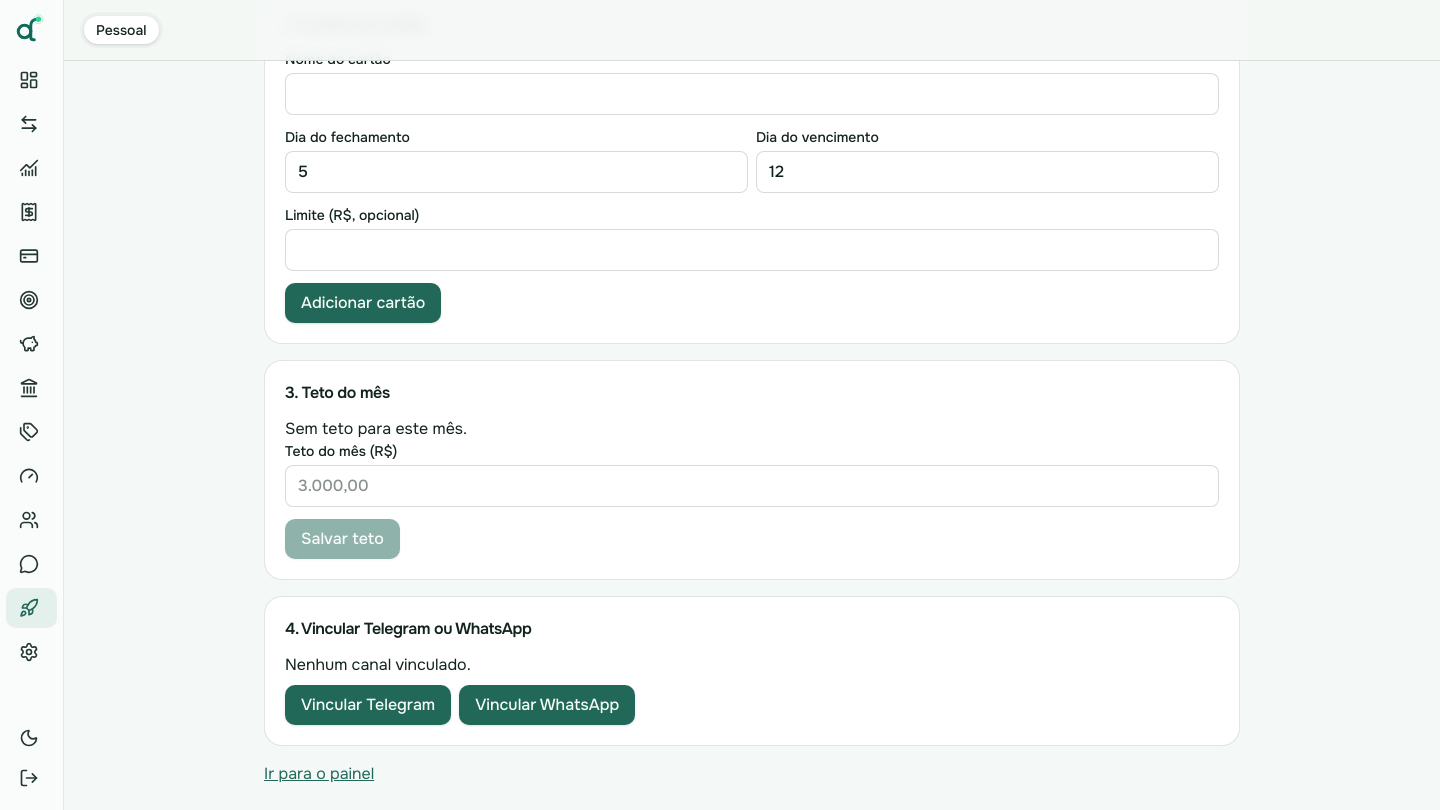
onboarding mostra código e link t.me
(page scrolled)
Click the button "Vincular Telegram" at x=368, y=705, box [285,685,451,725]
(page scrolled)
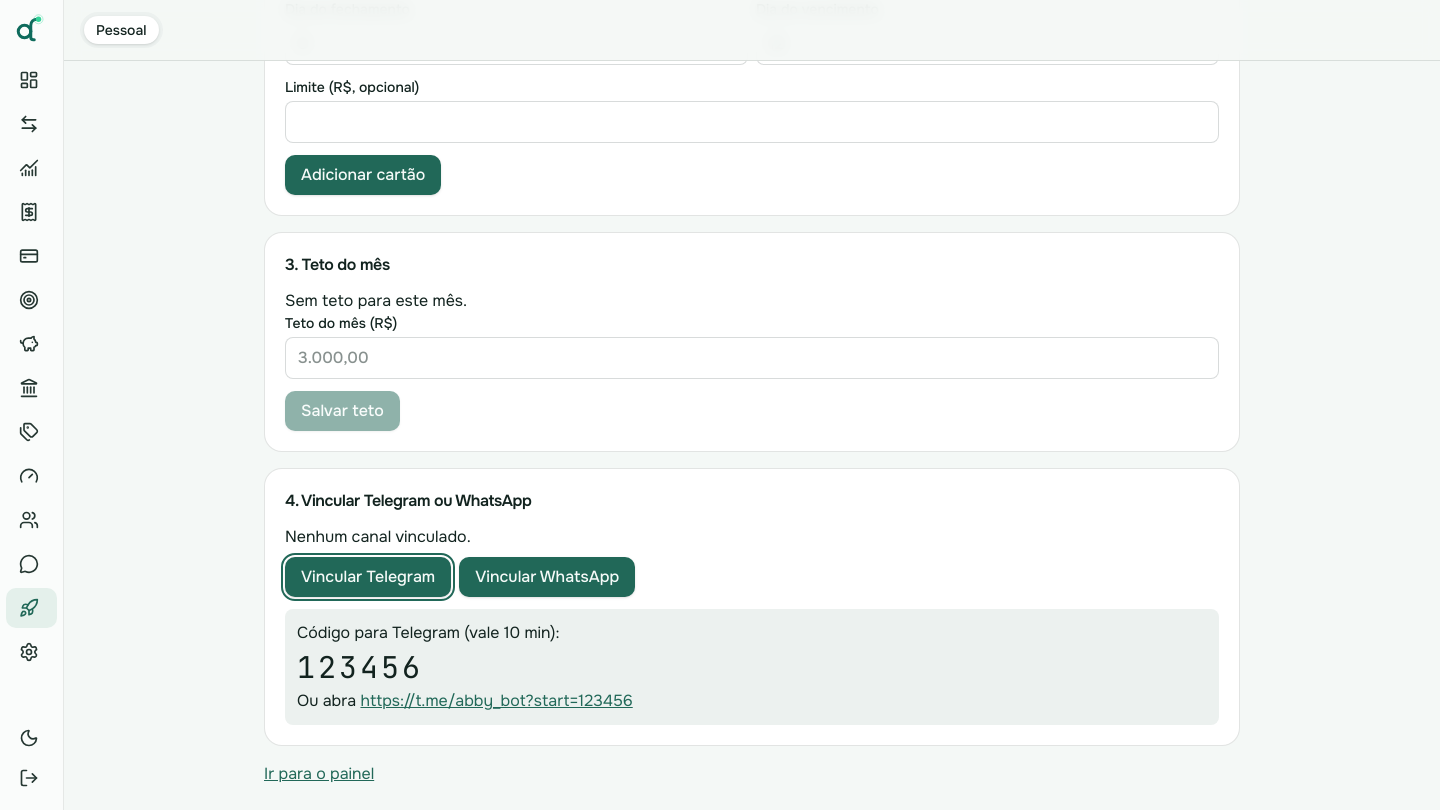
Result: the text "123456" is shown at [297,647,423,687]
